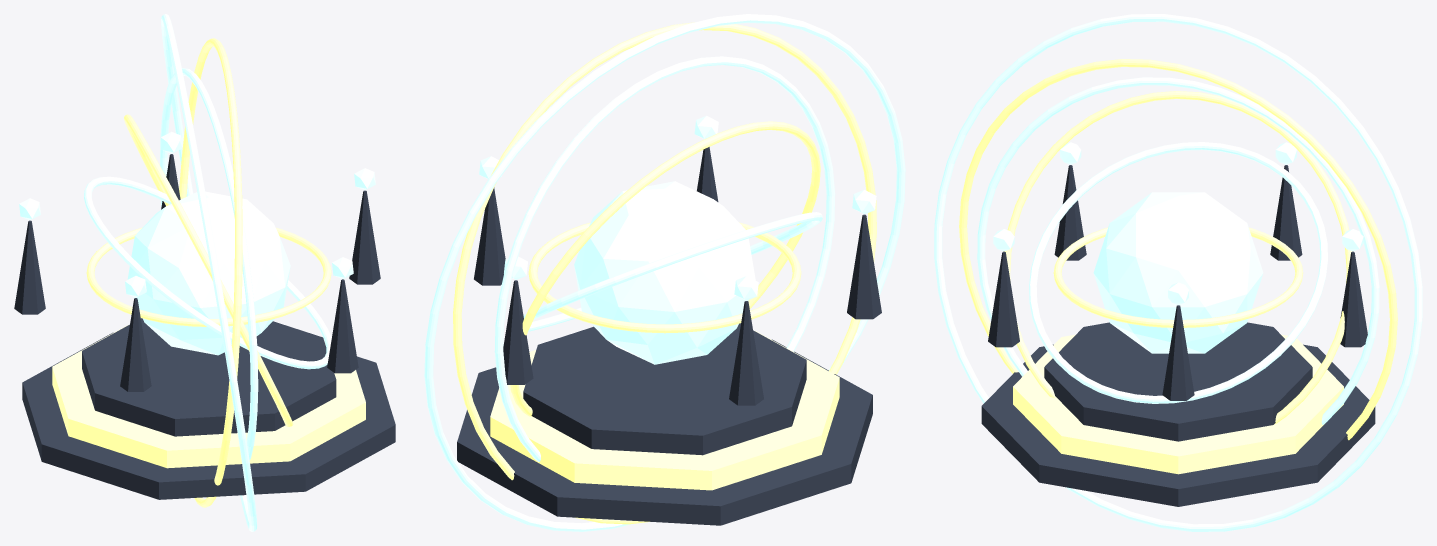
Rendered from gpu-blender-v7.glb.
3 views of the same model, side by side, from view 1: azimuth 30°, elevation 25°; view 2: azimuth 150°, elevation 25°; view 3: azimuth 270°, elevation 25° (orthographic). The views are drawn at different scales.
Visible parts, largest first — view 1: Cylinder.002, Cylinder, SovereignCore_regex-droid-builder, Cylinder.001, Torus.005, Torus.004, Torus.001, Torus.003, Torus, Torus.002, Cone.004, Cone.002 (+2 smaller); view 2: Cylinder.002, SovereignCore_regex-droid-builder, Cylinder, Cylinder.001, Torus.005, Torus.003, Torus.004, Torus.002, Torus, Torus.001, Cone.003, Cone.002 (+3 smaller); view 3: SovereignCore_regex-droid-builder, Cylinder.002, Cylinder, Cylinder.001, Torus.005, Torus.004, Torus.001, Torus.003, Torus.002, Torus, Cone.004, Cone (+3 smaller).
Boxes of the visible parts, x1=… form: Cylinder.002: x1=82, y1=318, x2=336, y2=436; Cylinder: x1=22, y1=332, x2=395, y2=499; SovereignCore_regex-droid-builder: x1=127, y1=191, x2=290, y2=355; Cylinder.001: x1=52, y1=325, x2=365, y2=468; Torus.005: x1=161, y1=14, x2=257, y2=531; Torus.004: x1=179, y1=38, x2=242, y2=507; Torus.001: x1=84, y1=176, x2=331, y2=369; Torus.003: x1=160, y1=68, x2=258, y2=459; Torus: x1=86, y1=227, x2=331, y2=326; Torus.002: x1=124, y1=114, x2=293, y2=426; Cone.004: x1=327, y1=279, x2=358, y2=373; Cone.002: x1=14, y1=220, x2=45, y2=314; Cylinder.002: x1=523, y1=323, x2=806, y2=455; SovereignCore_regex-droid-builder: x1=574, y1=181, x2=755, y2=364; Cylinder: x1=457, y1=339, x2=872, y2=525; Cylinder.001: x1=490, y1=330, x2=839, y2=490; Torus.005: x1=424, y1=14, x2=905, y2=531; Torus.003: x1=494, y1=56, x2=835, y2=461; Torus.004: x1=453, y1=22, x2=876, y2=524; Torus.002: x1=510, y1=121, x2=820, y2=416; Torus: x1=528, y1=222, x2=801, y2=333; Torus.001: x1=523, y1=212, x2=822, y2=331; Cone.003: x1=847, y1=214, x2=881, y2=319; Cone.002: x1=729, y1=301, x2=763, y2=405; SovereignCore_regex-droid-builder: x1=1093, y1=192, x2=1263, y2=353; Cylinder.002: x1=1044, y1=322, x2=1312, y2=441; Cylinder: x1=981, y1=344, x2=1375, y2=506; Cylinder.001: x1=1013, y1=334, x2=1343, y2=474; Torus.005: x1=934, y1=14, x2=1422, y2=531; Torus.004: x1=959, y1=59, x2=1397, y2=440; Torus.001: x1=1029, y1=142, x2=1327, y2=403; Torus.003: x1=977, y1=77, x2=1379, y2=424; Torus.002: x1=1004, y1=91, x2=1352, y2=423; Torus: x1=1053, y1=227, x2=1303, y2=327; Cone.004: x1=988, y1=251, x2=1019, y2=347; Cone: x1=1162, y1=305, x2=1194, y2=400.
Bounding box in the file's own units: 4.41 × 5.93 × 5.46.
